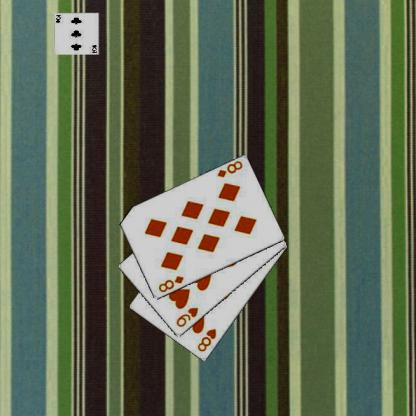8D: (214, 158, 244, 179), (156, 273, 185, 294)
8H: (194, 326, 218, 354)
9H: (174, 305, 200, 329)
